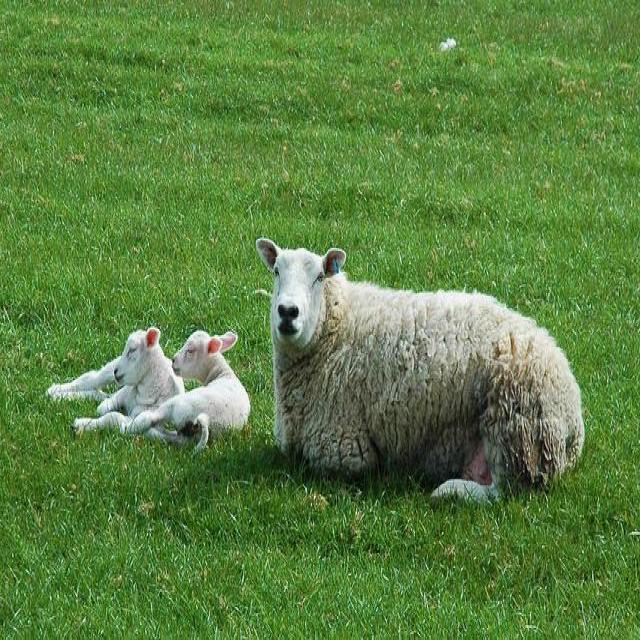Sheep: (258, 242, 584, 506), (131, 328, 249, 461), (46, 328, 186, 434)
